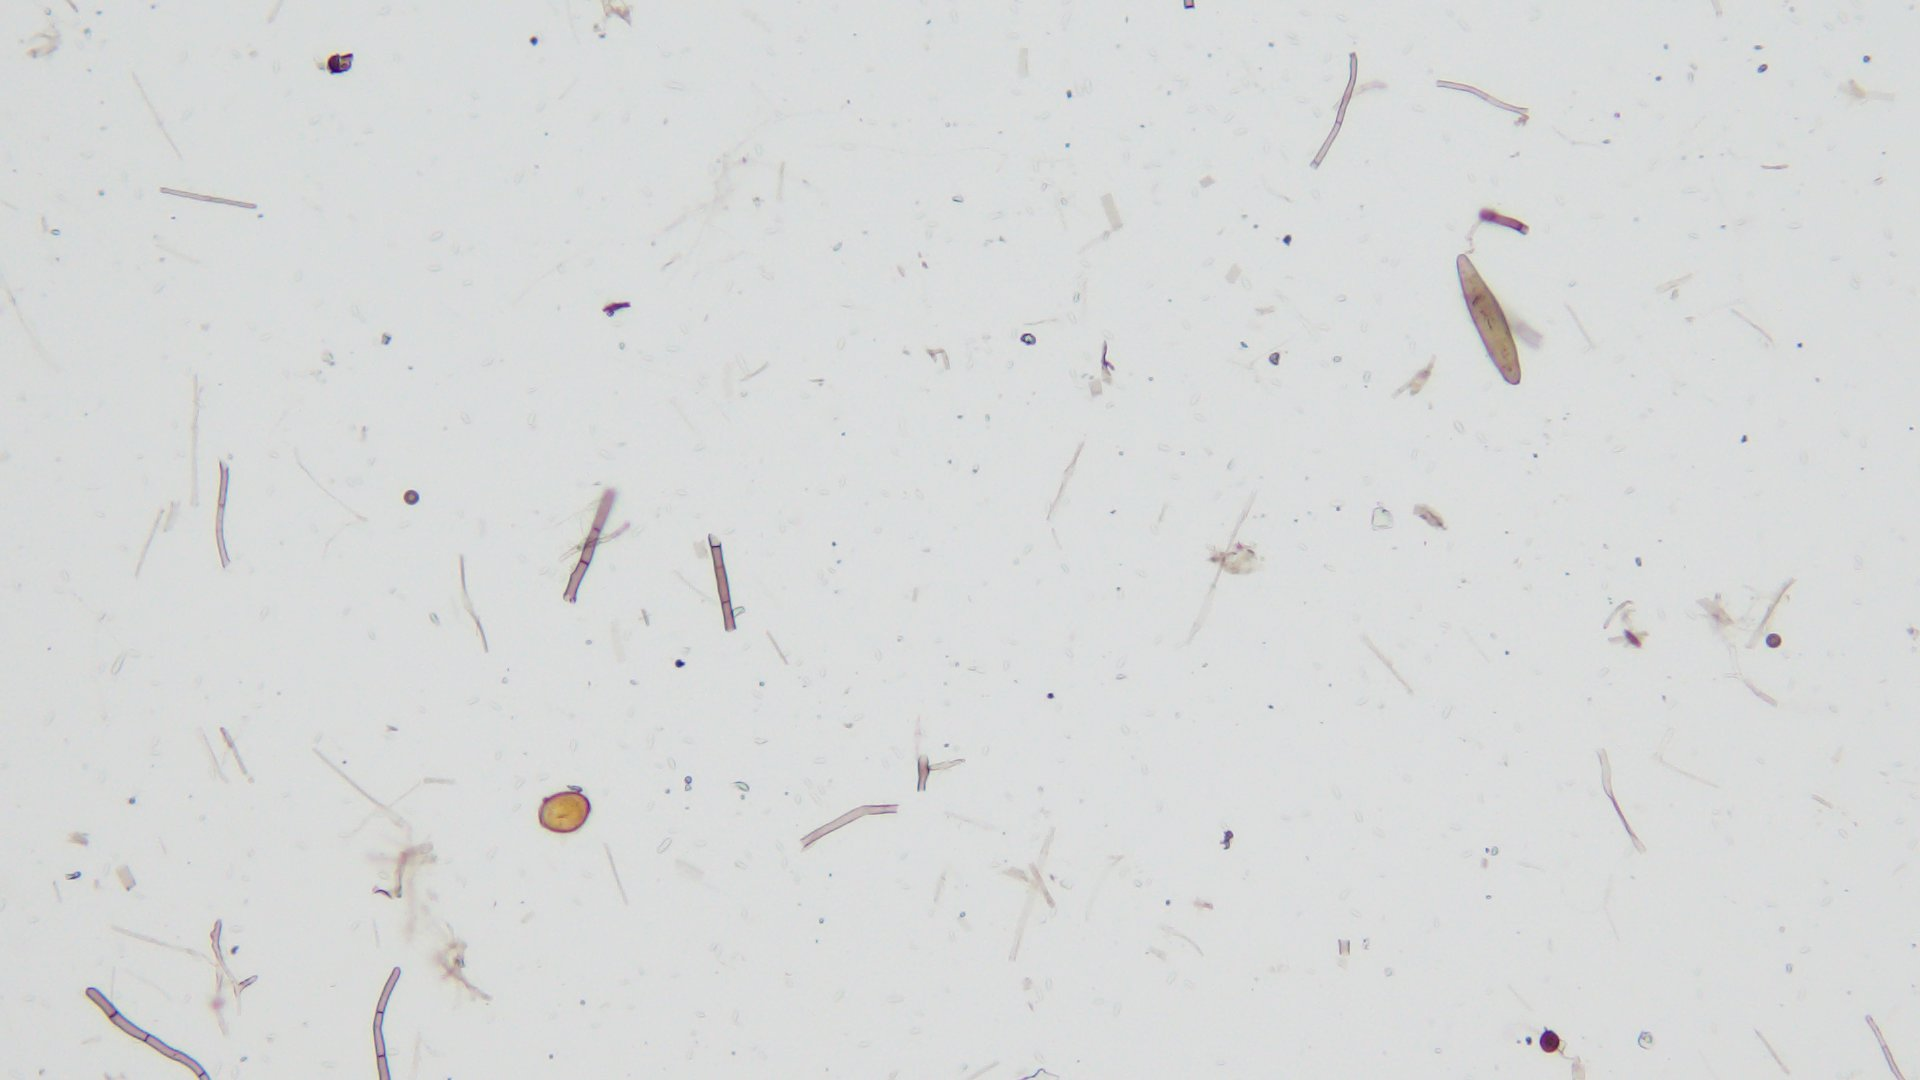dbb_spore: (1453, 255, 1523, 386)
shs_spore: (1539, 1030, 1560, 1052)
xb_spore: (538, 793, 588, 831)
